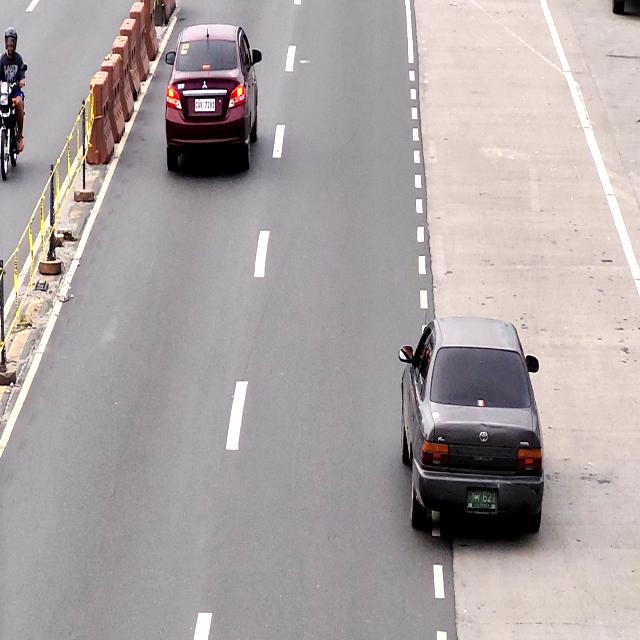Car: (399, 312, 547, 534), (166, 29, 254, 168)
License-Plate: (465, 486, 500, 513), (194, 98, 216, 112)
